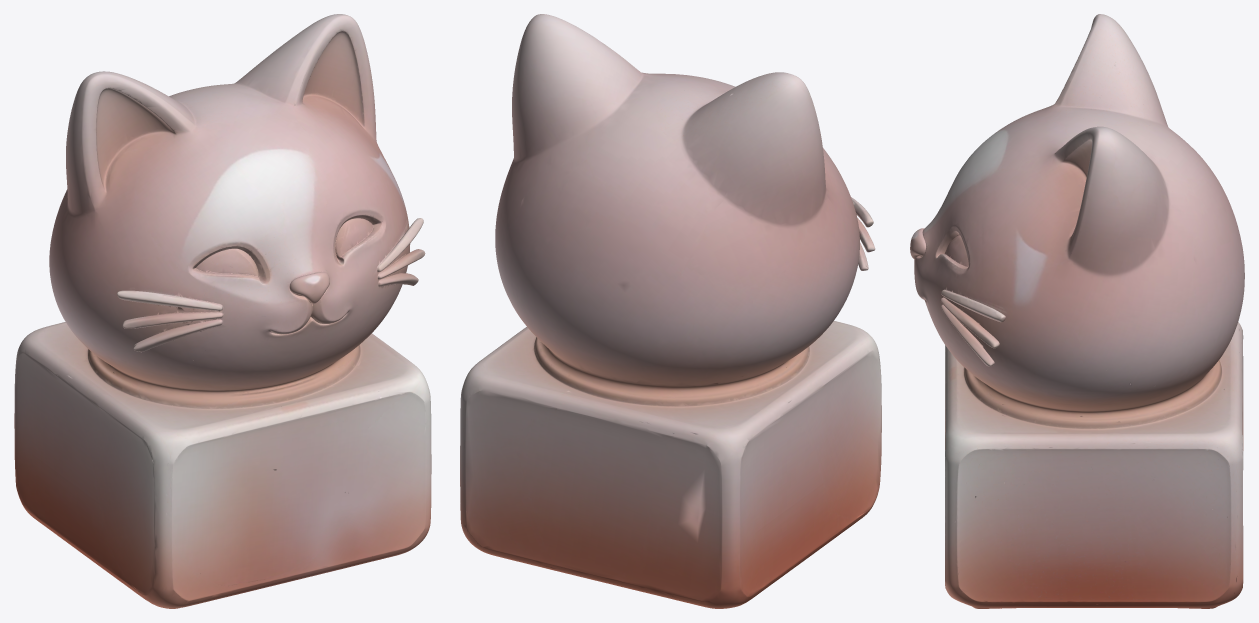
Rendered from yzxiaomao.glb.
The picture shows the model from 3 angles, left to right: view 1: azimuth 30°, elevation 25°; view 2: azimuth 150°, elevation 25°; view 3: azimuth 270°, elevation 25°; orthographic projection. The views are drawn at different scales.
Visible parts, largest first — view 1: node_0; view 2: node_0; view 3: node_0.
Boxes of the visible parts, x1=… form: node_0: x1=14, y1=14, x2=431, y2=608; node_0: x1=460, y1=14, x2=881, y2=608; node_0: x1=910, y1=14, x2=1244, y2=608.
Size of the model in its own units: 0.6614 by 0.95 by 0.6088.
1 material, 1 textured.
